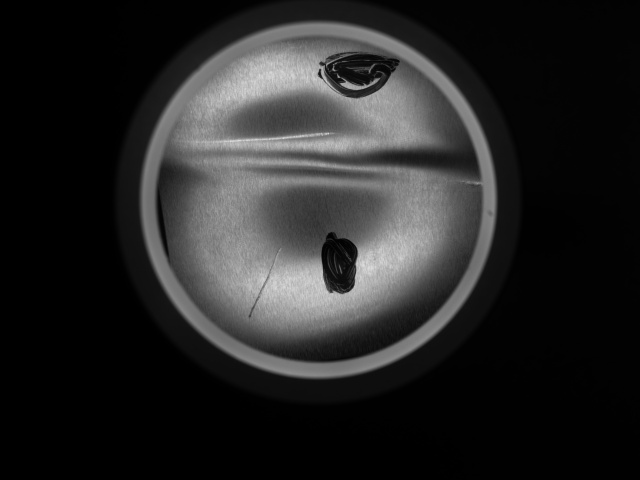ca_shang: (247, 245, 283, 317)
zang_wu: (314, 50, 401, 100), (317, 229, 366, 294)
zhe_zhou: (198, 66, 438, 331)
